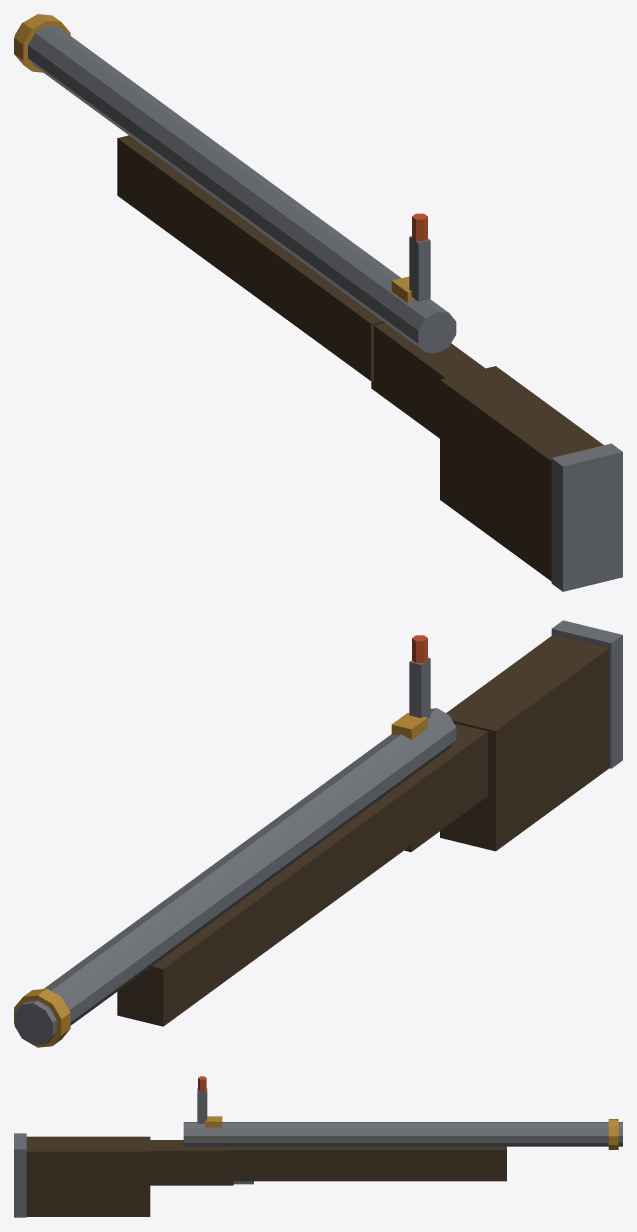
File: Matchlock.fbx
The picture shows the model from 3 angles, top to bottom: view 1: azimuth 30°, elevation 25°; view 2: azimuth 150°, elevation 25°; view 3: azimuth 270°, elevation 25°; orthographic projection. The views are drawn at different scales.
Parts seen in each view (by area): view 1: Matchlock; view 2: Matchlock; view 3: Matchlock.
Boxes of the visible parts, x1,y1,x2,y2 form: Matchlock: (14,14,622,591); Matchlock: (14,620,622,1047); Matchlock: (14,1076,622,1217).
Size of the model in its own units: 6 by 23.1 by 97.
Materials: 4 (4 with a texture image).
